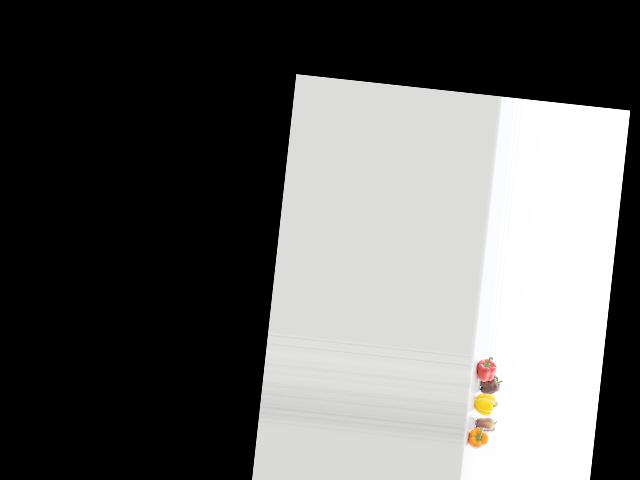bell_pepper: (464, 425, 496, 451)
